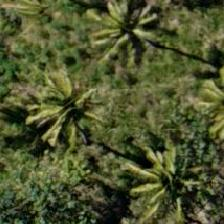Kelapa_Sawit: (18, 63, 108, 153), (121, 135, 212, 223), (92, 0, 182, 69)
